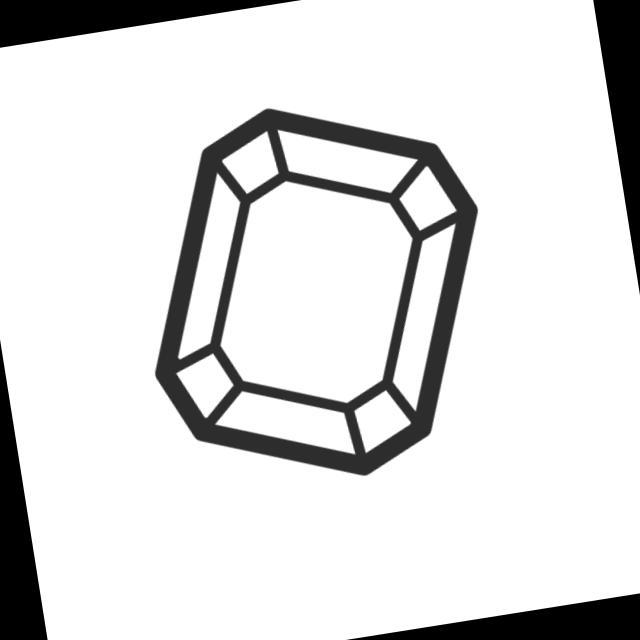emerald: (110, 71, 522, 513)
